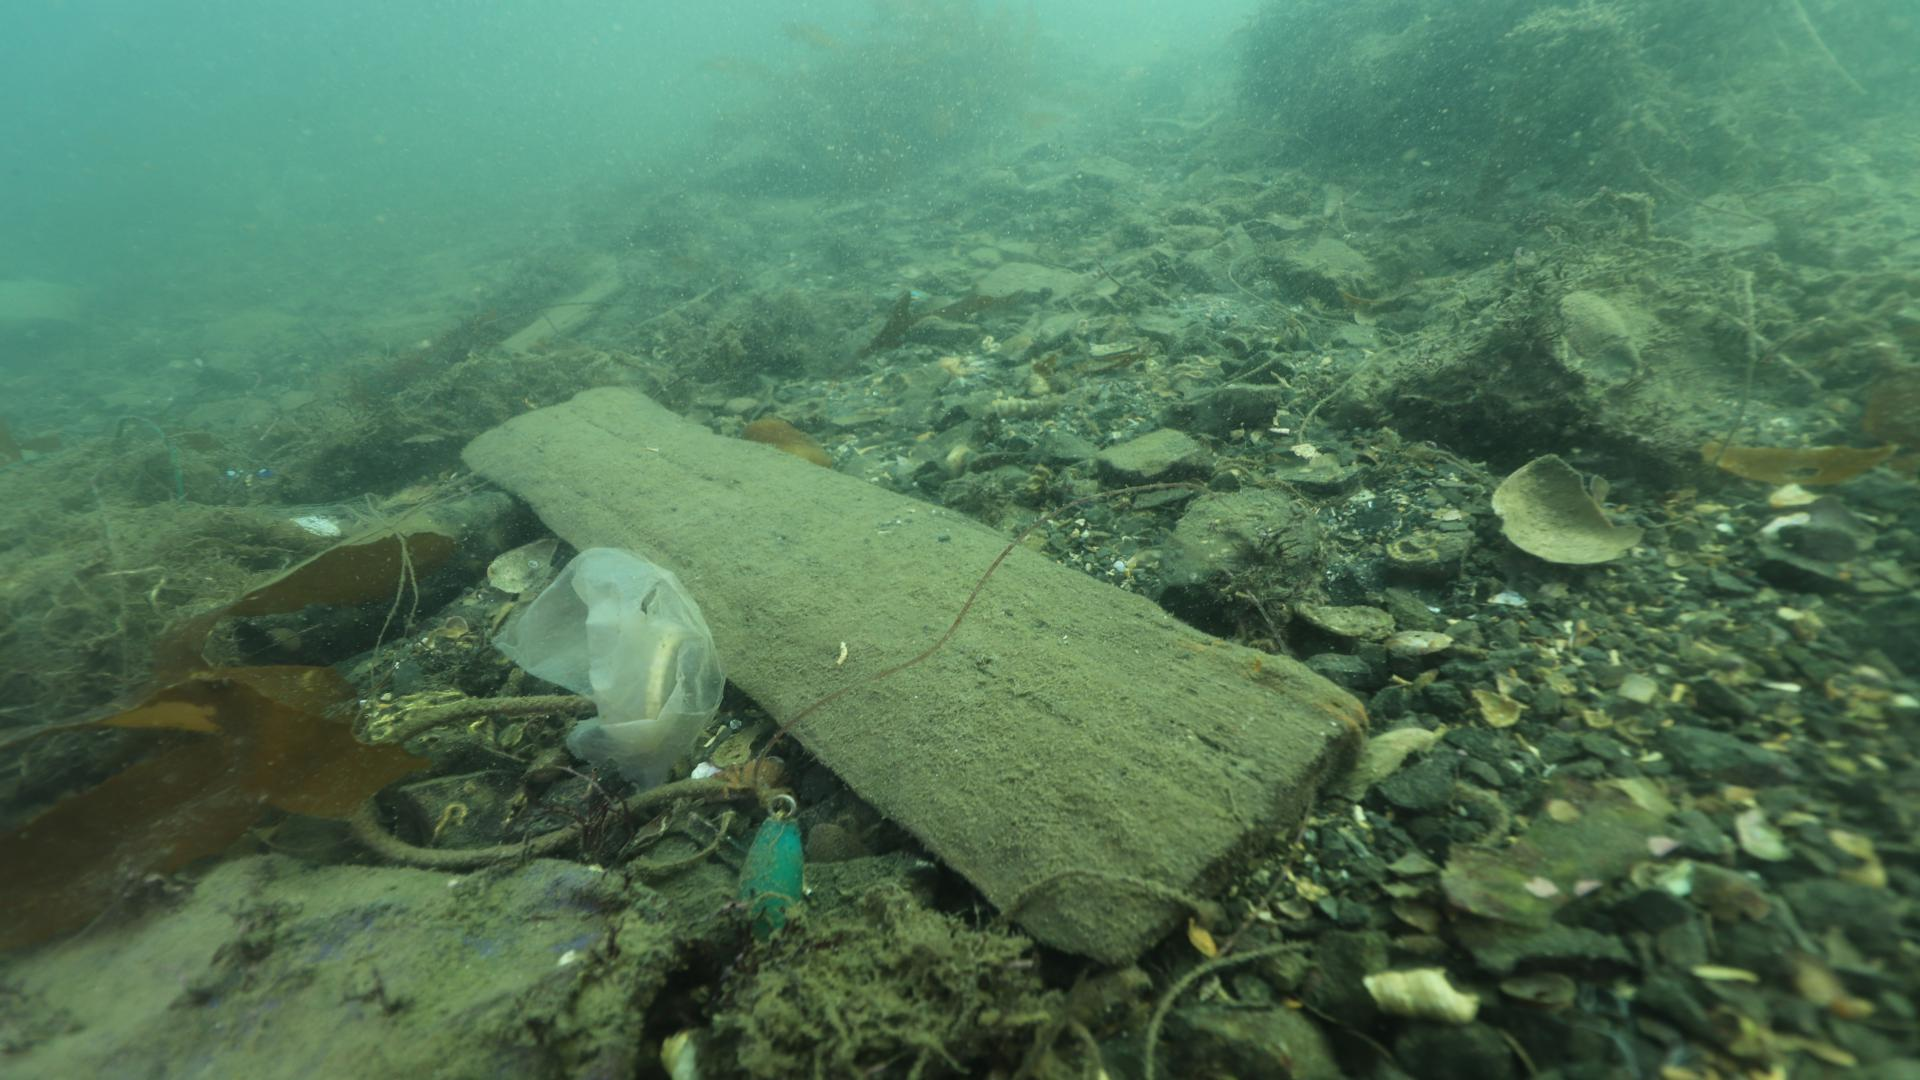wood: (451, 378, 1371, 975)
